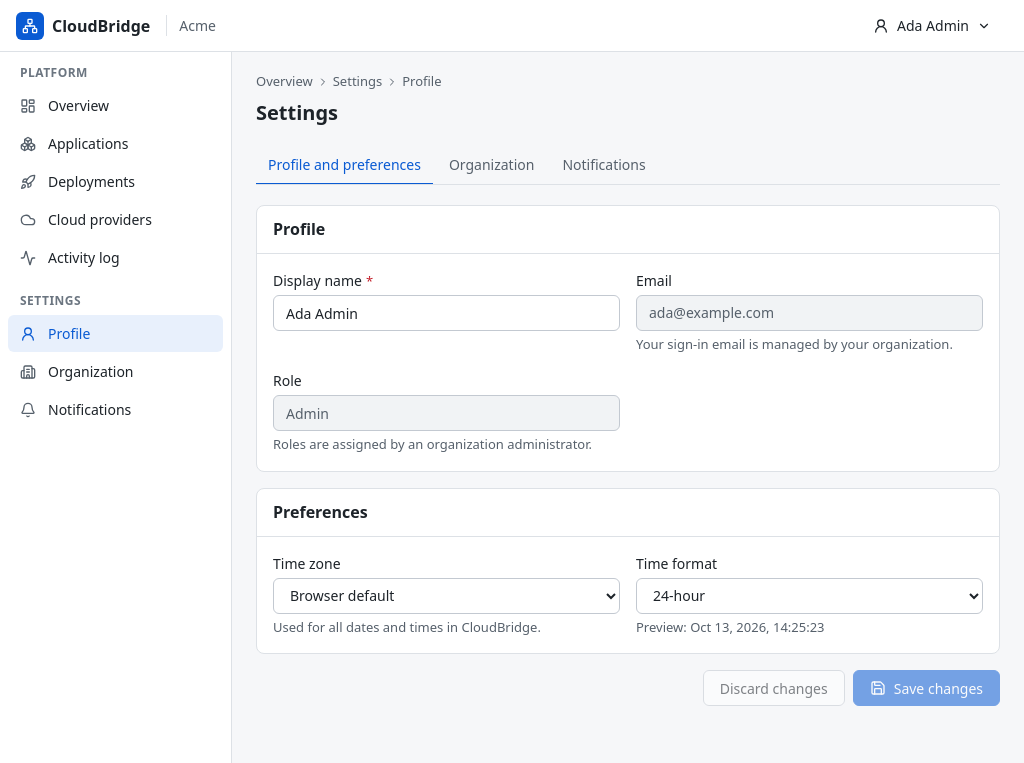
Scenario: settings › saves the profile and updates the header
The width and height of the screenshot is (1024, 763).
Clear the field labelled "Display name*": (446, 313) [273, 295, 620, 331]
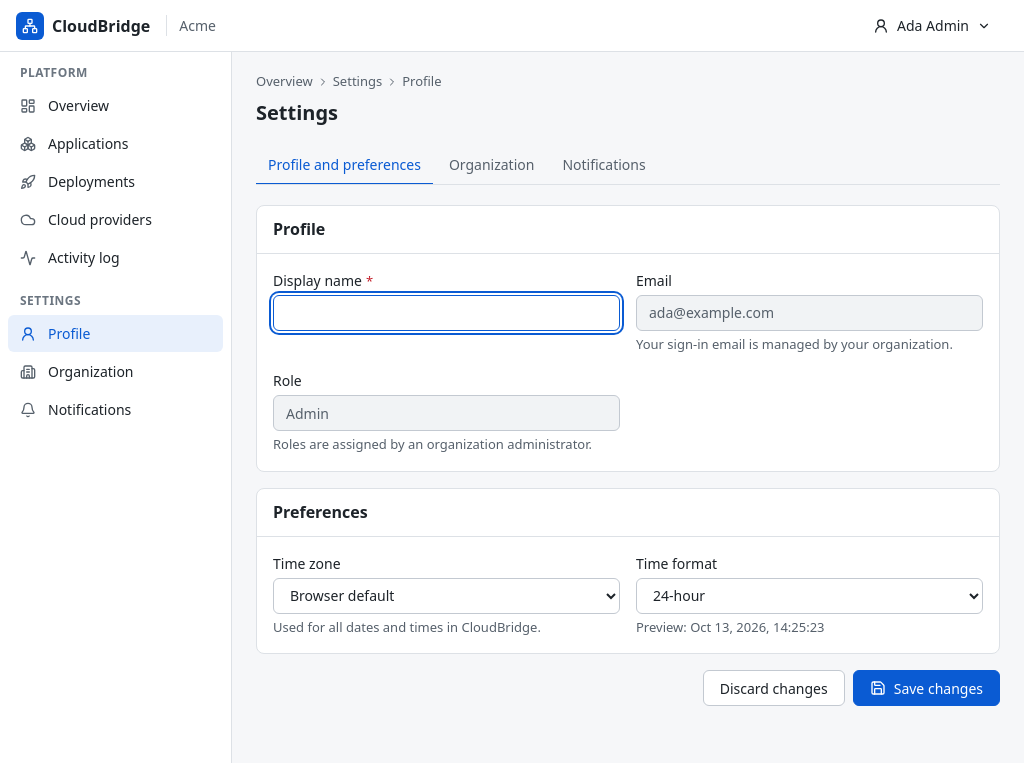
Click the button "Save changes": (926, 688) [853, 670, 1000, 706]
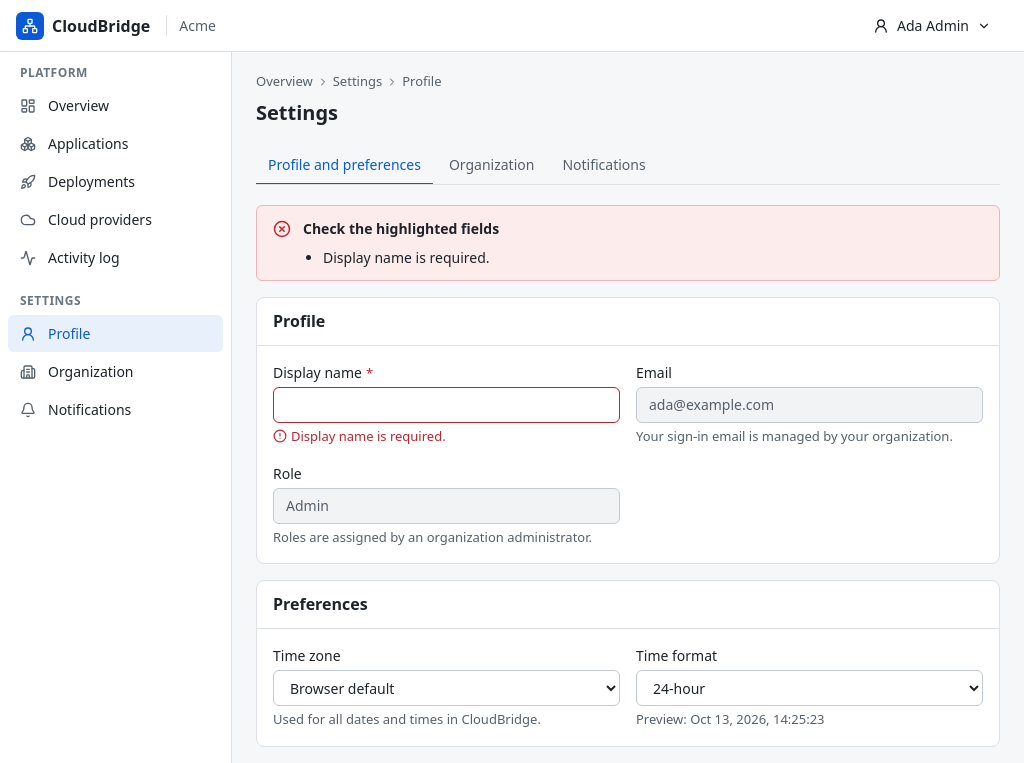
Now the list item "Display name is required." is shown, box [323, 248, 490, 266]
In the field labelled "Display name*": (446, 405) [273, 387, 620, 423], type "Ada Lovelace"
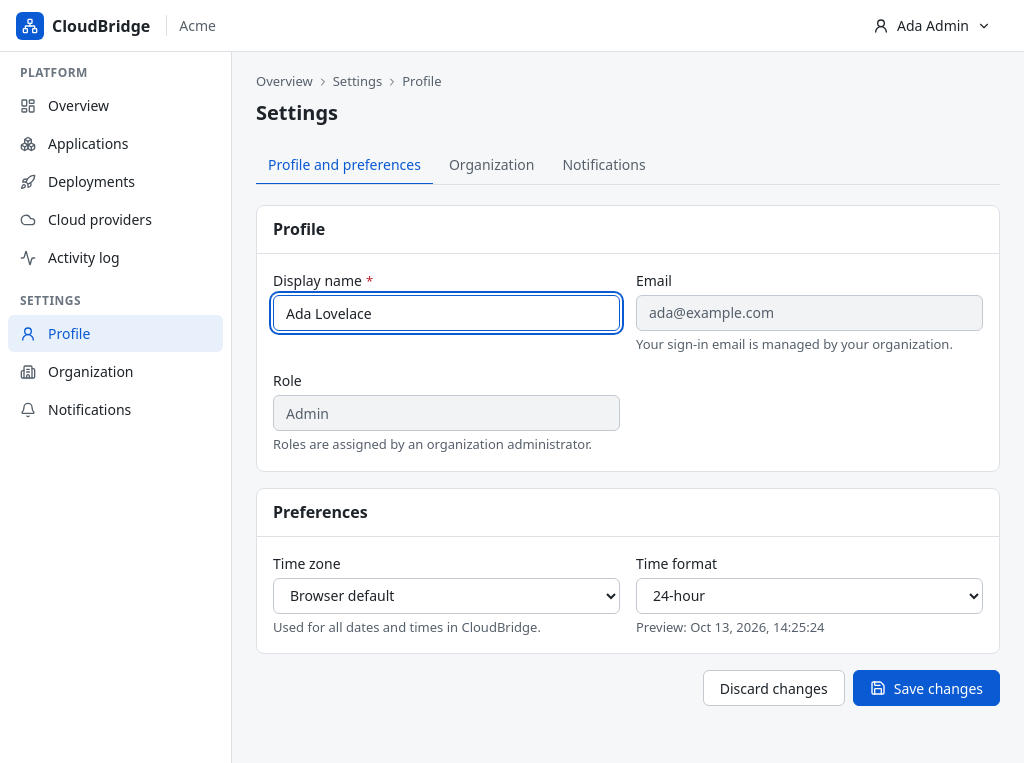
Click the button "Save changes": (926, 688) [853, 670, 1000, 706]
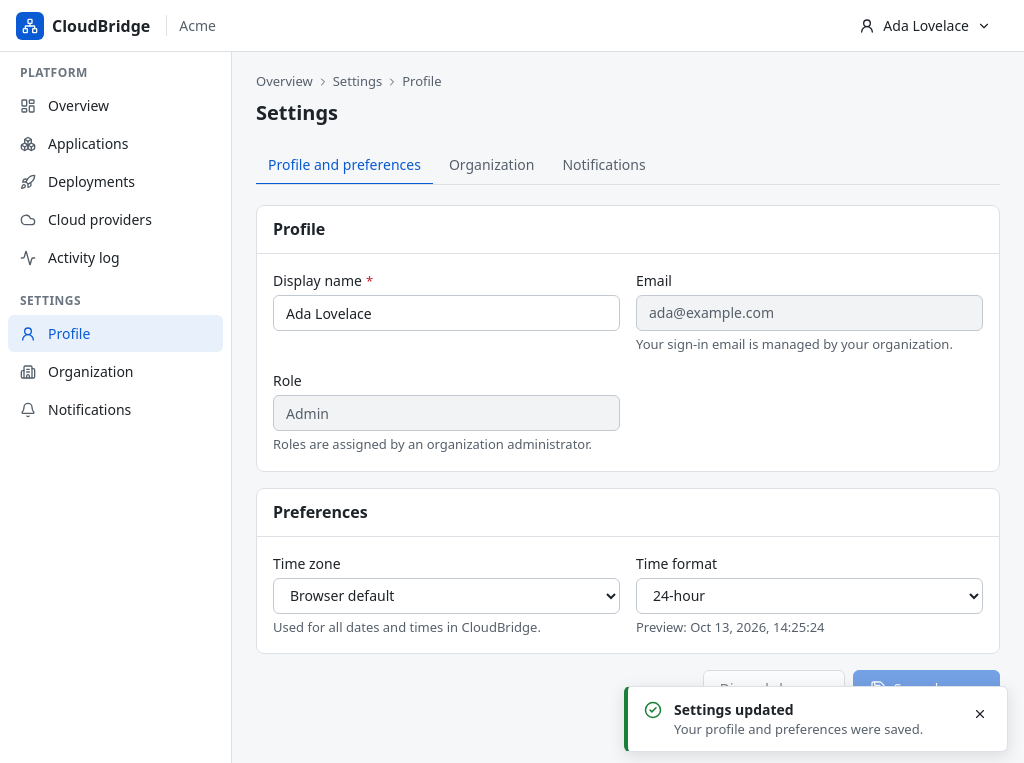
Now the text "Settings updated" is shown, box [674, 700, 794, 718]
Now the button "Ada Lovelace" is shown, box [842, 8, 1008, 44]
